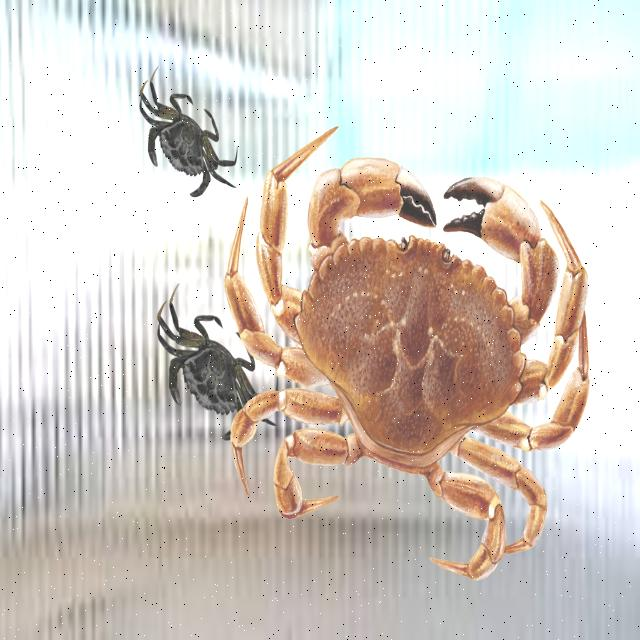European_Green_Crab: (136, 276, 297, 474), (122, 59, 252, 228)
